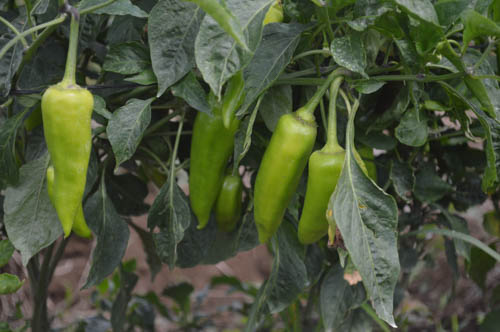ChiliPepper: (254, 113, 316, 252), (45, 89, 93, 240), (185, 108, 234, 235), (302, 151, 348, 254), (49, 175, 96, 239), (219, 68, 248, 130), (216, 179, 244, 240)
